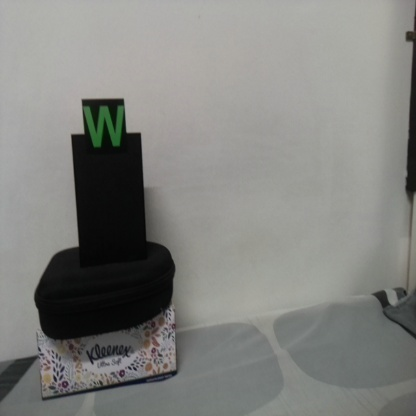id_12: (82, 99, 128, 156)
